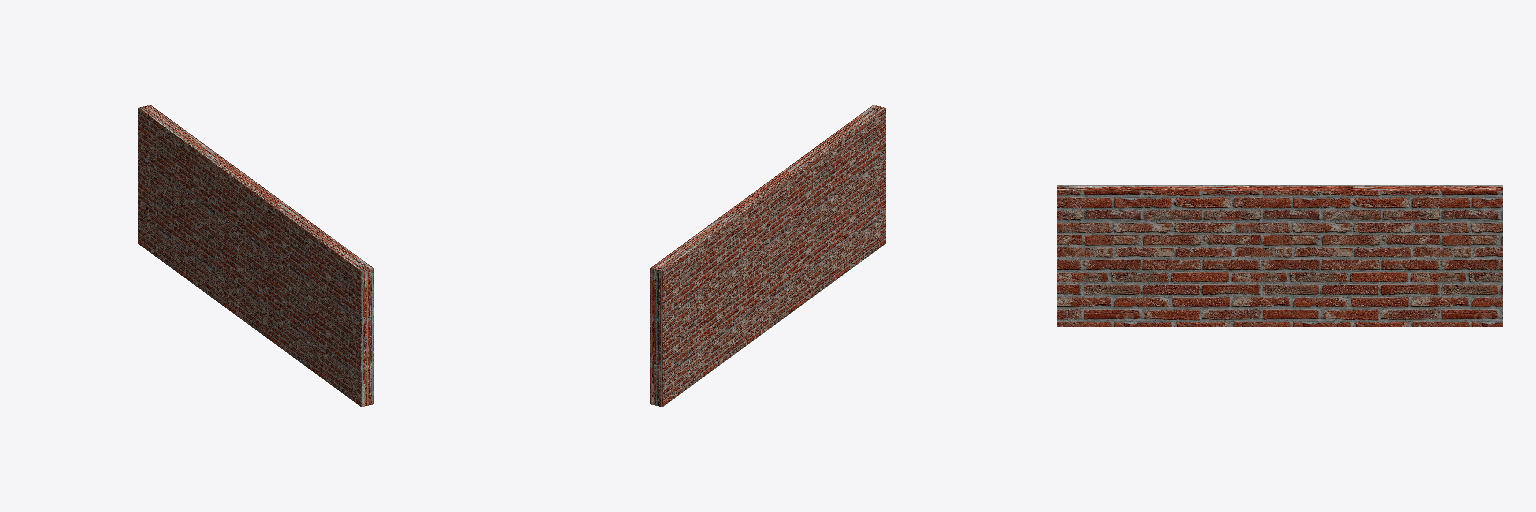
3 views of the same model, side by side, from view 1: azimuth 30°, elevation 25°; view 2: azimuth 150°, elevation 25°; view 3: azimuth 270°, elevation 25° (orthographic).
Visible parts, largest first — view 1: Cube.012_Cube.013; view 2: Cube.012_Cube.013; view 3: Cube.012_Cube.013.
Boxes of the visible parts, box(x1,y1,x2,y2) form: Cube.012_Cube.013: box(138, 105, 373, 406); Cube.012_Cube.013: box(650, 105, 885, 406); Cube.012_Cube.013: box(1057, 185, 1502, 326).
Size of the model in its own units: 0.8 by 8.62 by 25.56.
1 materials, 1 textured.